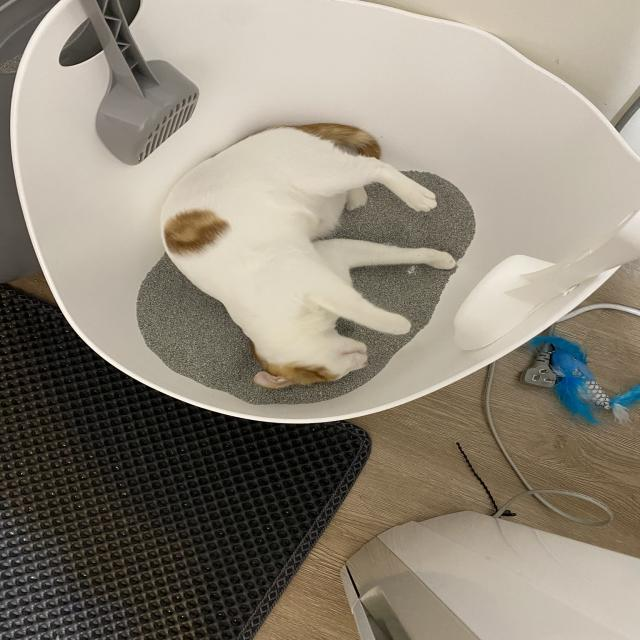cat1: (160, 120, 459, 390)
